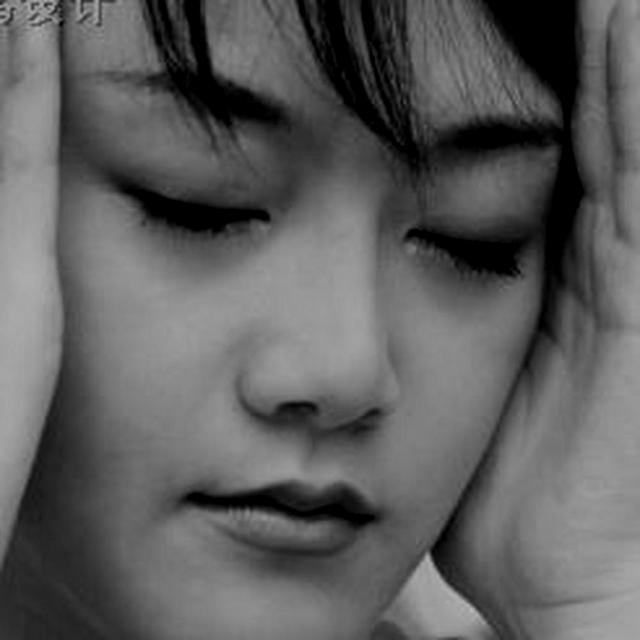real: (31, 10, 561, 640), (106, 102, 536, 316)
